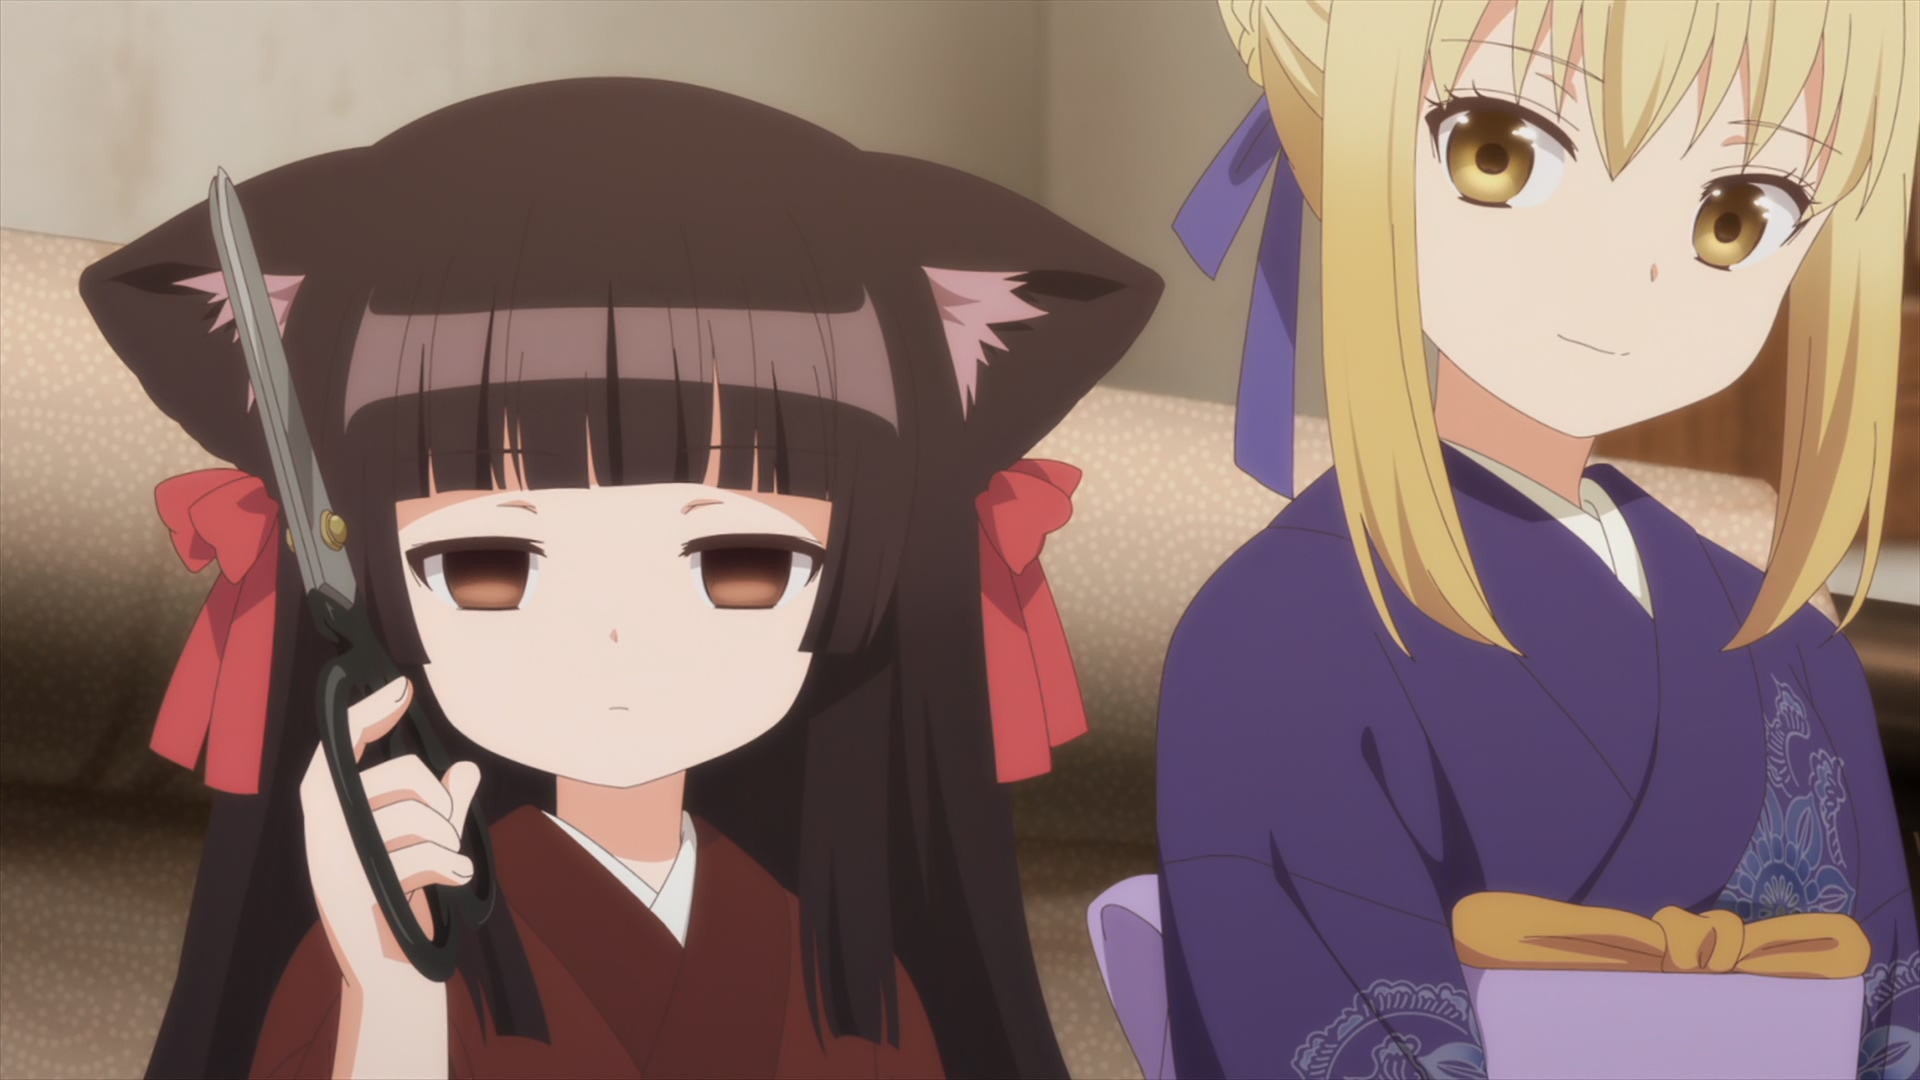桐: (1085, 1, 1920, 1080)
樱: (79, 75, 1164, 1080)
